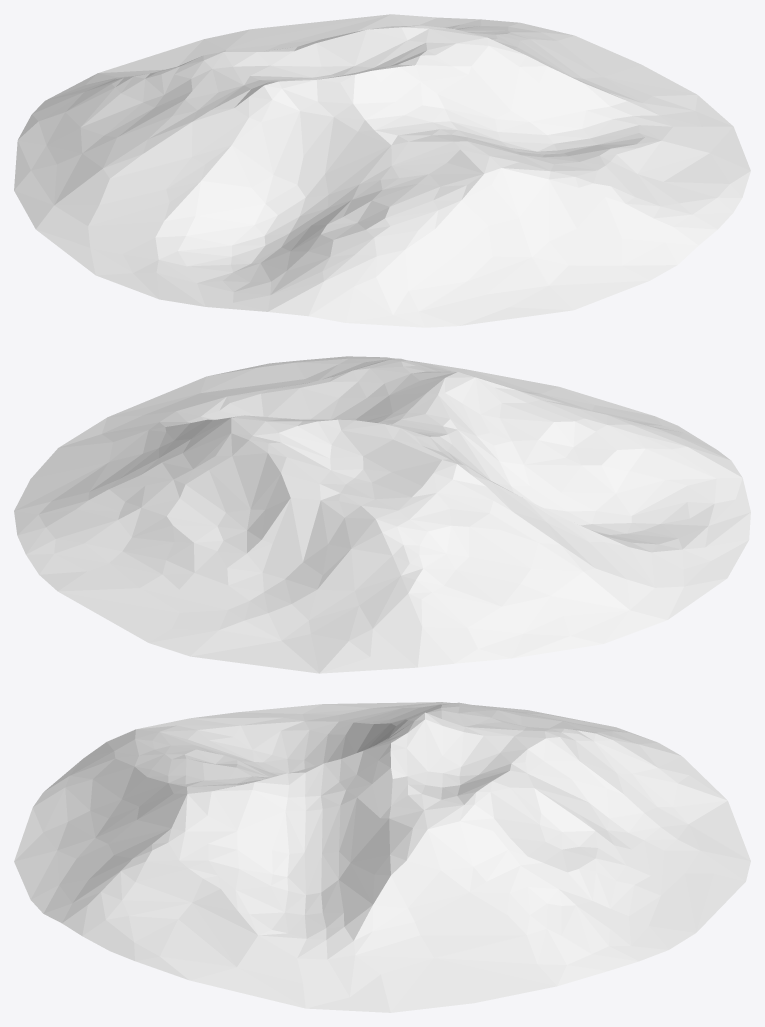
File: DWE_Snow_Ground_02A.fbx
3 views of the same model, one above another, from view 1: azimuth 30°, elevation 25°; view 2: azimuth 150°, elevation 25°; view 3: azimuth 270°, elevation 25° (orthographic).
Parts seen in each view (by area): view 1: DWE_Snow_Ground_02A; view 2: DWE_Snow_Ground_02A; view 3: DWE_Snow_Ground_02A.
Part boxes in pixels (left/top/right/bottom): DWE_Snow_Ground_02A: left=14, top=14, right=750, bottom=327; DWE_Snow_Ground_02A: left=14, top=356, right=750, bottom=673; DWE_Snow_Ground_02A: left=14, top=702, right=750, bottom=1012.
Bounding box in the file's own units: 926 × 145 × 933.
